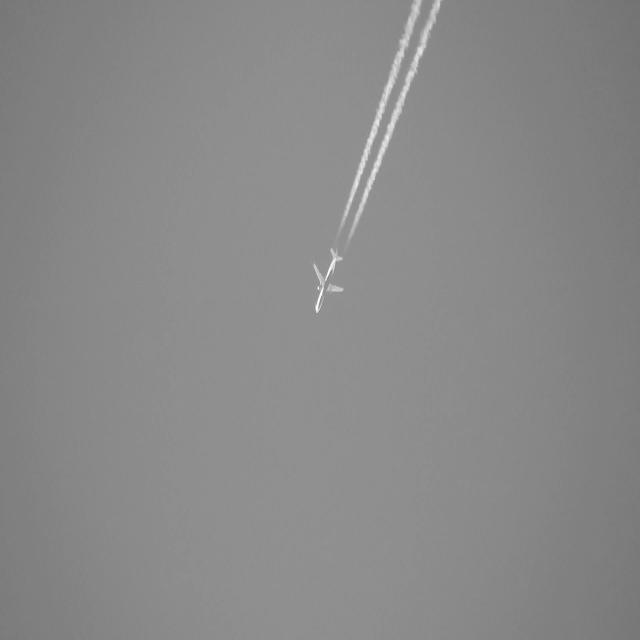aeroplane: (308, 243, 348, 316)
